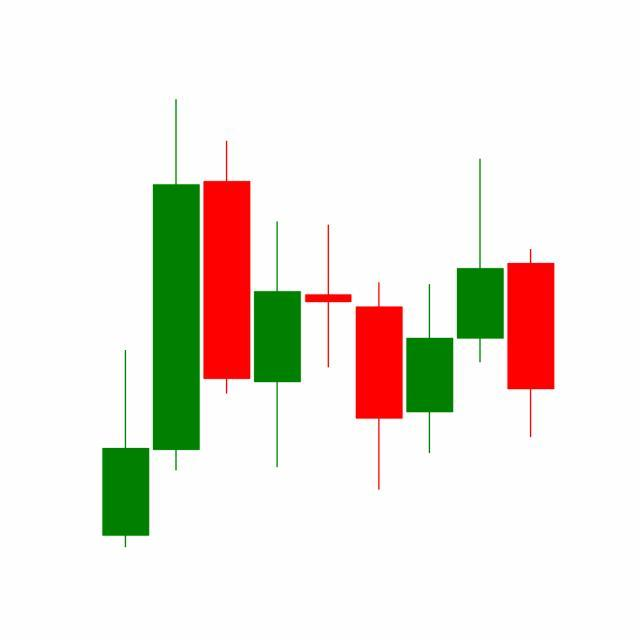Hikkake Pattern: (252, 156, 506, 495)
